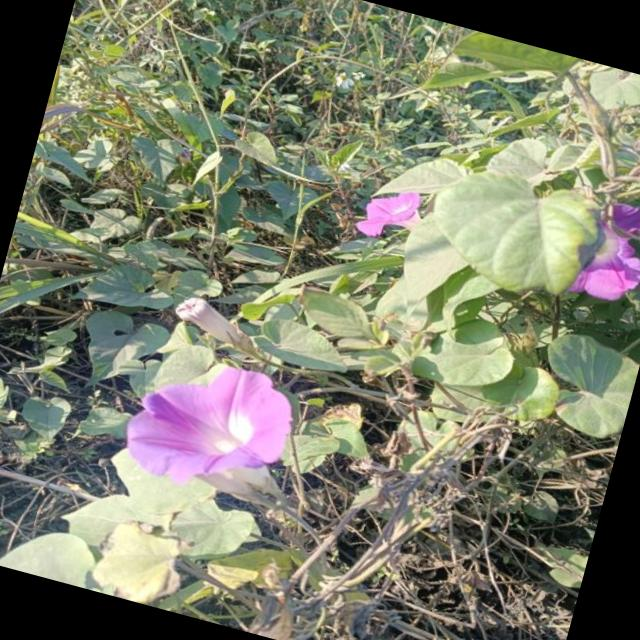ipomoea: (110, 339, 308, 513), (561, 189, 640, 314), (347, 175, 431, 252)
